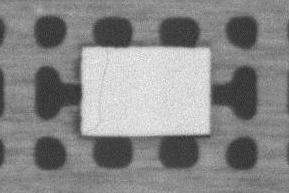DIE_CRACK: (87, 49, 109, 132)
